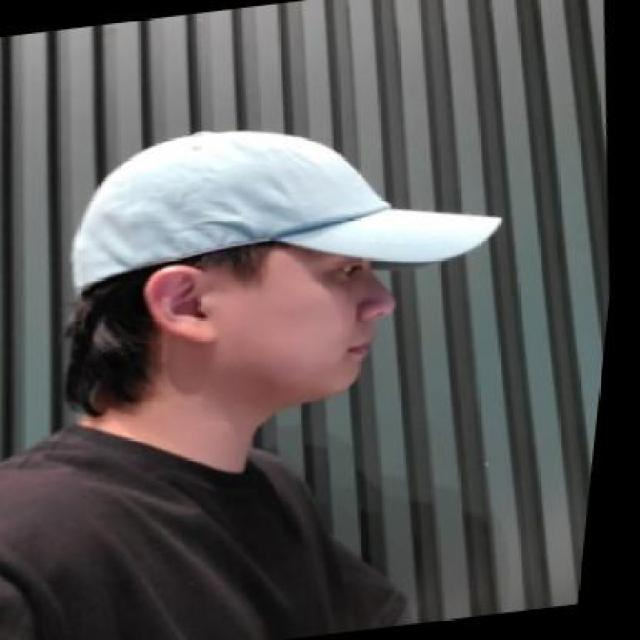hat: (54, 92, 524, 310)
